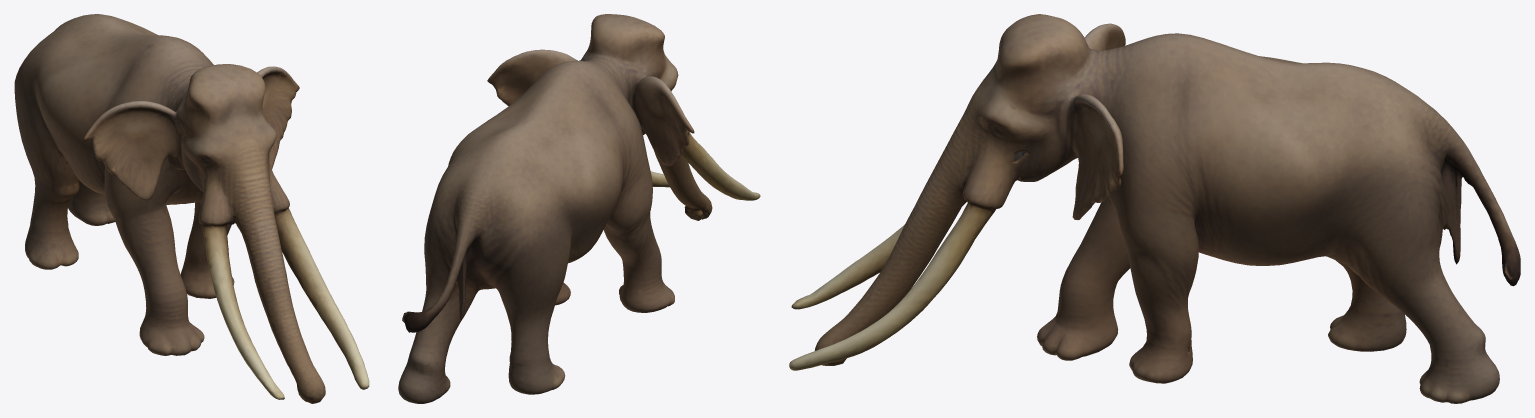
3 renders of one model, left to right at view 1: azimuth 30°, elevation 25°; view 2: azimuth 150°, elevation 25°; view 3: azimuth 270°, elevation 25°, orthographic. The views are drawn at different scales.
Visible parts, largest first — view 1: world; view 2: world; view 3: world.
Part boxes in pixels (<box>): world: <box>14,14,369,403</box>; world: <box>398,14,760,403</box>; world: <box>789,14,1520,403</box>.
Bounding box in the file's own units: 2.88 × 3.52 × 6.8.
1 material, 1 textured.
